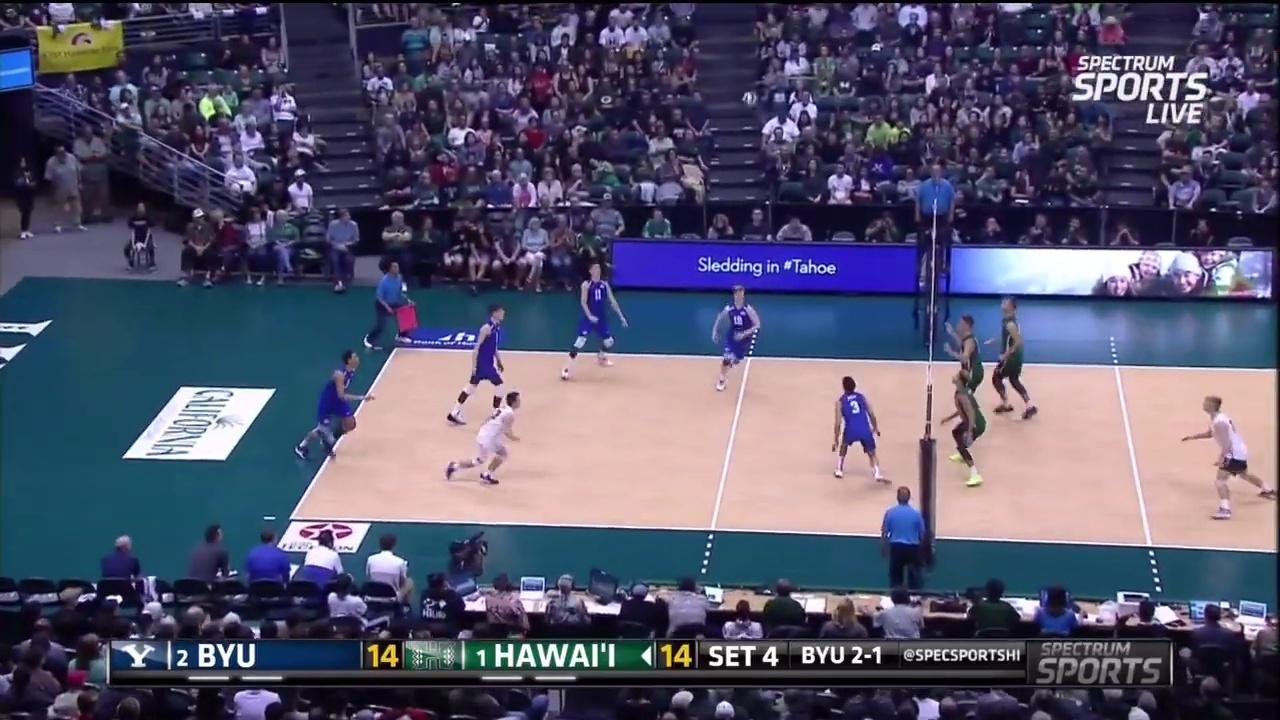player: (1182, 399, 1275, 517), (295, 354, 371, 461), (450, 308, 515, 423), (450, 393, 526, 486), (562, 266, 625, 378), (989, 296, 1037, 421), (829, 377, 885, 483), (946, 369, 992, 491), (714, 285, 761, 393), (946, 317, 984, 437)
refree: (880, 485, 939, 593), (364, 255, 421, 349), (918, 159, 960, 264)
